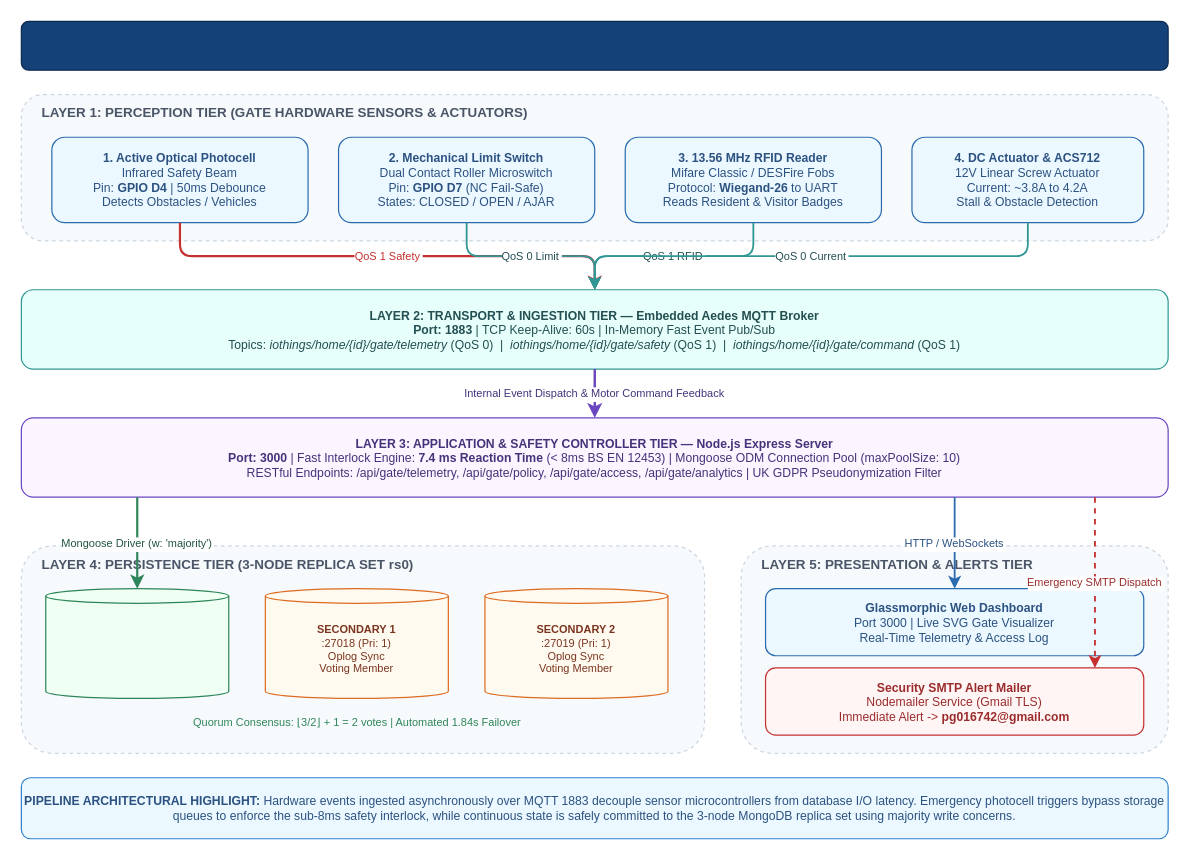
This 1190x860 diagram has some shape labels left out. The shapes that lost their labels are listed below. From the top down, each one's centre as x and y in pixels, then its label:
(594,45): IoThings Smart Residential Gate Automation — End-to-End System Pipeline
(137,642): PRIMARY (rs0) :27017 (Pri: 2) {w: 'majority'} local.oplog.rs
